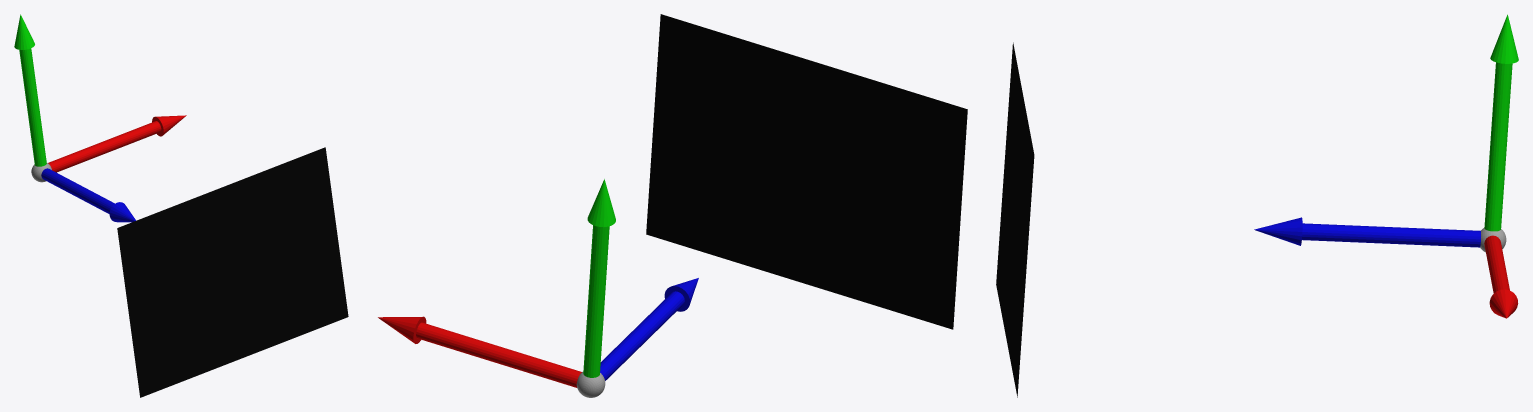
3 views of the same model, side by side, from view 1: azimuth 30°, elevation 25°; view 2: azimuth 150°, elevation 25°; view 3: azimuth 270°, elevation 25° (orthographic). The views are drawn at different scales.
Size of the model in its own units: 0.2064 by 0.1818 by 0.273.
